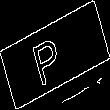P_N: (37, 25, 73, 85)
